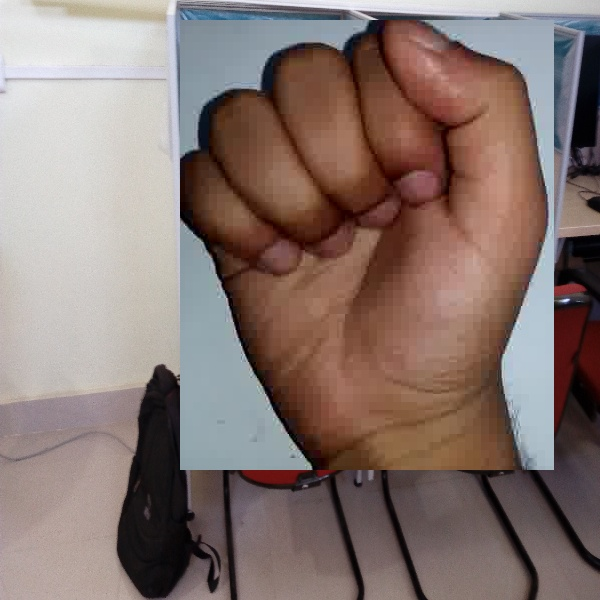A: (180, 20, 554, 470)
